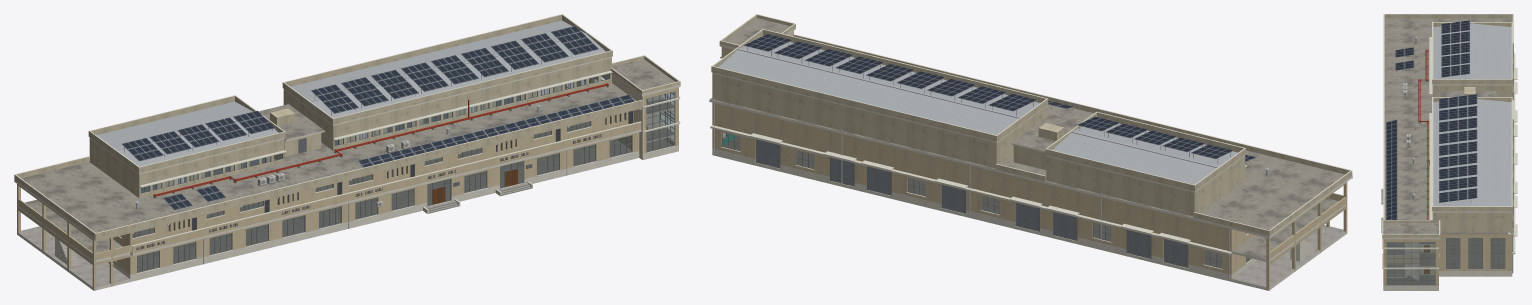
Rendered from BMU_Workshop_Exterior.glb.
The picture shows the model from 3 angles, left to right: view 1: azimuth 30°, elevation 25°; view 2: azimuth 150°, elevation 25°; view 3: azimuth 270°, elevation 25°; orthographic projection. The views are drawn at different scales.
Visible parts, largest first — view 1: Slabs_Roof, Solar_Arrays, Raised_Block_Right, Front_First_Floor, Hall_Roof, Front_Ground_Floor, Raised_Block_Left, Floors, Front_Ground_Floor_Windows, Open_Frame_Bay, Stair_Tower, Front_First_Floor_Windows (+10 smaller); view 2: Back_Facade, Hall_Roof, Raised_Block_Right, Slabs_Roof, Back_Facade_Windows, Raised_Block_Left, Solar_Arrays, Open_Frame_Bay, Penthouse, Floors, Stair_Tower, End_Walls; view 3: Slabs_Roof, Hall_Roof, Solar_Arrays, Stair_Tower, Raised_Block_Right, Stair_Tower_Windows, End_Walls, Raised_Block_Left, Floors, End_Walls_Windows, Roof_Pipes, Back_Facade_Windows (+3 smaller).
Part boxes in pixels (x1,y1,x2,y2): Slabs_Roof: [14, 83, 644, 255]; Solar_Arrays: [121, 25, 634, 210]; Raised_Block_Right: [282, 14, 612, 150]; Front_First_Floor: [124, 111, 641, 253]; Hall_Roof: [97, 20, 605, 166]; Front_Ground_Floor: [129, 132, 639, 281]; Raised_Block_Left: [88, 95, 286, 198]; Floors: [121, 115, 631, 272]; Front_Ground_Floor_Windows: [137, 135, 633, 273]; Open_Frame_Bay: [17, 184, 130, 290]; Stair_Tower: [610, 55, 680, 159]; Front_First_Floor_Windows: [132, 111, 633, 250]; Back_Facade: [710, 98, 1232, 281]; Hall_Roof: [719, 35, 1237, 184]; Raised_Block_Right: [711, 29, 1048, 168]; Slabs_Roof: [709, 34, 1352, 238]; Back_Facade_Windows: [721, 132, 1222, 269]; Raised_Block_Left: [1045, 111, 1247, 216]; Solar_Arrays: [743, 34, 1256, 161]; Open_Frame_Bay: [1231, 182, 1347, 290]; Penthouse: [1011, 116, 1079, 169]; Floors: [723, 136, 1250, 267]; Stair_Tower: [719, 14, 795, 58]; End_Walls: [712, 103, 1257, 281]; Slabs_Roof: [1383, 14, 1513, 234]; Hall_Roof: [1433, 23, 1511, 206]; Solar_Arrays: [1386, 20, 1477, 219]; Stair_Tower: [1382, 220, 1440, 290]; Raised_Block_Right: [1429, 97, 1512, 232]; Stair_Tower_Windows: [1386, 242, 1439, 285]; End_Walls: [1439, 234, 1512, 276]; Raised_Block_Left: [1429, 22, 1512, 96]; Floors: [1440, 232, 1507, 268]; End_Walls_Windows: [1445, 238, 1505, 269]; Roof_Pipes: [1418, 49, 1429, 219]; Back_Facade_Windows: [1508, 67, 1517, 236].
Bounding box in the file's own units: 193 × 29.59 × 48.6.
21 materials, 21 textured.
